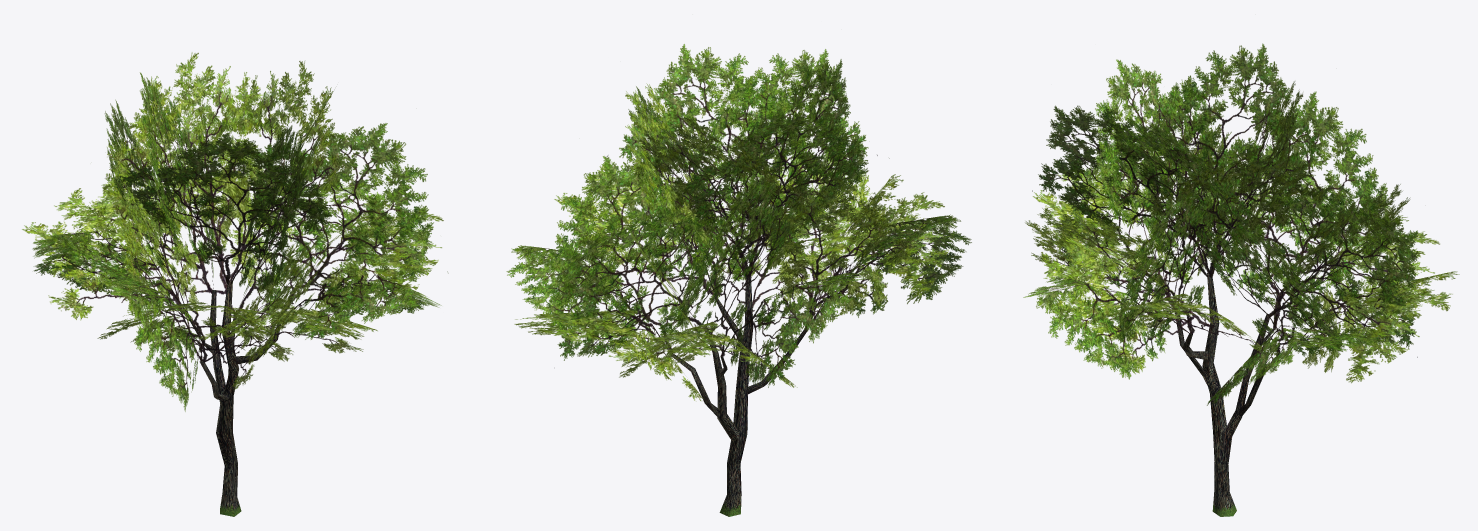
Rendered from tree_d03.glb.
3 views of the same model, side by side, from view 1: azimuth 30°, elevation 25°; view 2: azimuth 150°, elevation 25°; view 3: azimuth 270°, elevation 25° (orthographic).
Visible parts, largest first — view 1: tree_d03; view 2: tree_d03; view 3: tree_d03.
Part boxes in pixels (left/top/right/bottom): tree_d03: left=22, top=52, right=448, bottom=516; tree_d03: left=506, top=44, right=971, bottom=516; tree_d03: left=1023, top=43, right=1459, bottom=516.
Size of the model in its own units: 15.62 by 17.72 by 15.95.
Materials: 4 (4 with a texture image).
